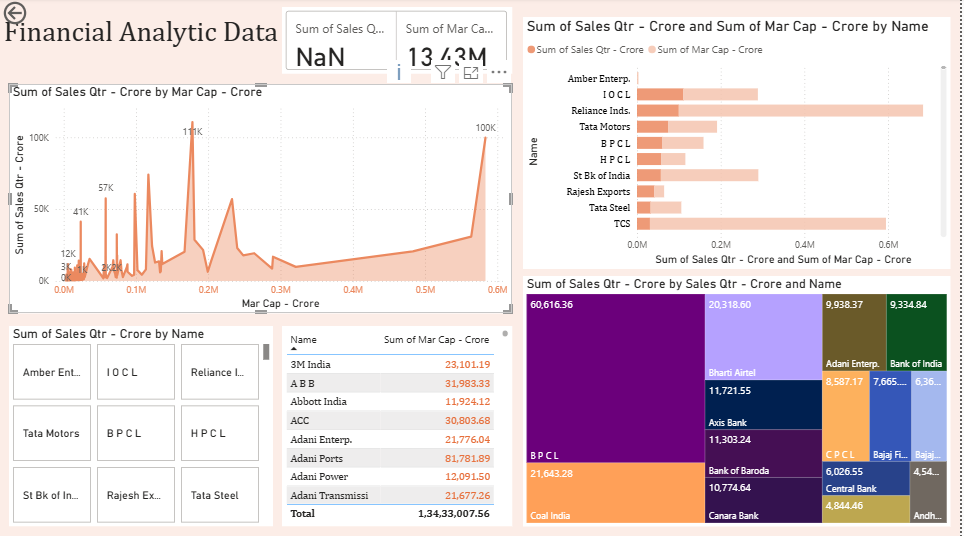

This screenshot's page, from the dashboard's own definition file:
{"tool":"powerbi","page":{"name":"Page 1","canvas":[1280,720],"ordinal":0},"visuals":[{"type":"areaChart","fields":{"Category":["Financial Analytics data.Mar Cap - Crore"],"Y":["Sum(Financial Analytics data.Sales Qtr - Crore)"]},"box":[12.4,114.2,670.3,305.5],"z":0},{"type":"textbox","box":[0,0,397.8,101.8],"z":1000},{"type":"barChart","fields":{"Category":["Financial Analytics data.Name"],"Y":["Sum(Financial Analytics data.Sales Qtr - Crore)","Sum(Financial Analytics data.Mar Cap - Crore)"]},"box":[697.8,24.8,569.8,335.8],"z":2000},{"type":"cardVisual","fields":{"Data":["Sum(Financial Analytics data.Sales Qtr - Crore)","Sum(Financial Analytics data.Mar Cap - Crore)"]},"box":[375.7,12.4,306.9,89.5],"z":3000},{"type":"advancedSlicerVisual","fields":{"Values":["Financial Analytics data.Name"]},"box":[12.4,437.7,352.3,267],"z":4000},{"type":"tableEx","fields":{"Values":["Financial Analytics data.Name","Sum(Financial Analytics data.Mar Cap - Crore)"]},"box":[375.7,437.7,306.9,267],"z":5000},{"type":"actionButton","box":[0,0,100,40],"z":6000},{"type":"treemap","fields":{"Group":["Financial Analytics data.Sales Qtr - Crore"],"Details":["Financial Analytics data.Name"],"Values":["Sum(Financial Analytics data.Sales Qtr - Crore)"]},"box":[697.8,370.2,569.8,334.5],"z":7000}]}

Visuals, with their boxes on the page's 1280x720 design canvas (x1, y1, x2, y2). These are canvas units, not pixel positions in the 964x536 screenshot, which may show the page scaled, cropped or inside an application window:
areaChart - Financial Analytics data.Mar Cap - Crore x Sum(Financial Analytics data.Sales Qtr - Crore): left=12, top=114, right=683, bottom=420
textbox: left=0, top=0, right=398, bottom=102
barChart - Financial Analytics data.Name x Sum(Financial Analytics data.Sales Qtr - Crore): left=698, top=25, right=1268, bottom=361
cardVisual - Sum(Financial Analytics data.Sales Qtr - Crore) x Sum(Financial Analytics data.Mar Cap - Crore): left=376, top=12, right=683, bottom=102
advancedSlicerVisual - Financial Analytics data.Name: left=12, top=438, right=365, bottom=705
tableEx - Financial Analytics data.Name x Sum(Financial Analytics data.Mar Cap - Crore): left=376, top=438, right=683, bottom=705
actionButton: left=0, top=0, right=100, bottom=40
treemap - Financial Analytics data.Sales Qtr - Crore x Financial Analytics data.Name: left=698, top=370, right=1268, bottom=705
